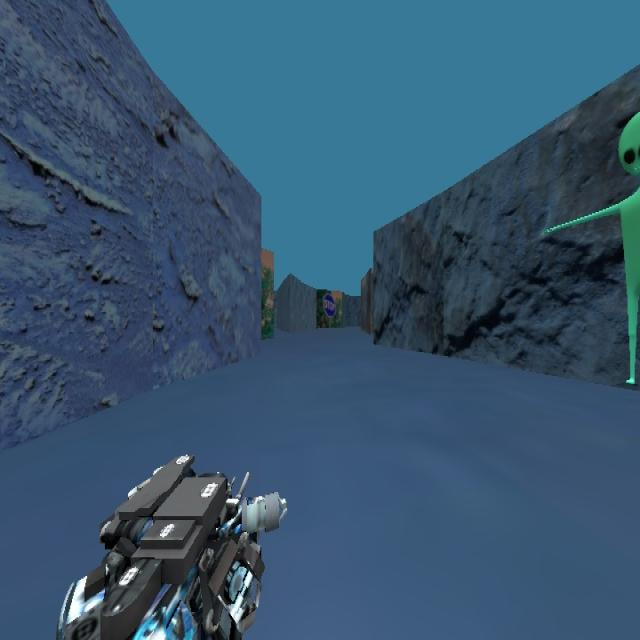Alien: (539, 110, 639, 386)
Stop_Sign: (322, 292, 336, 317)
